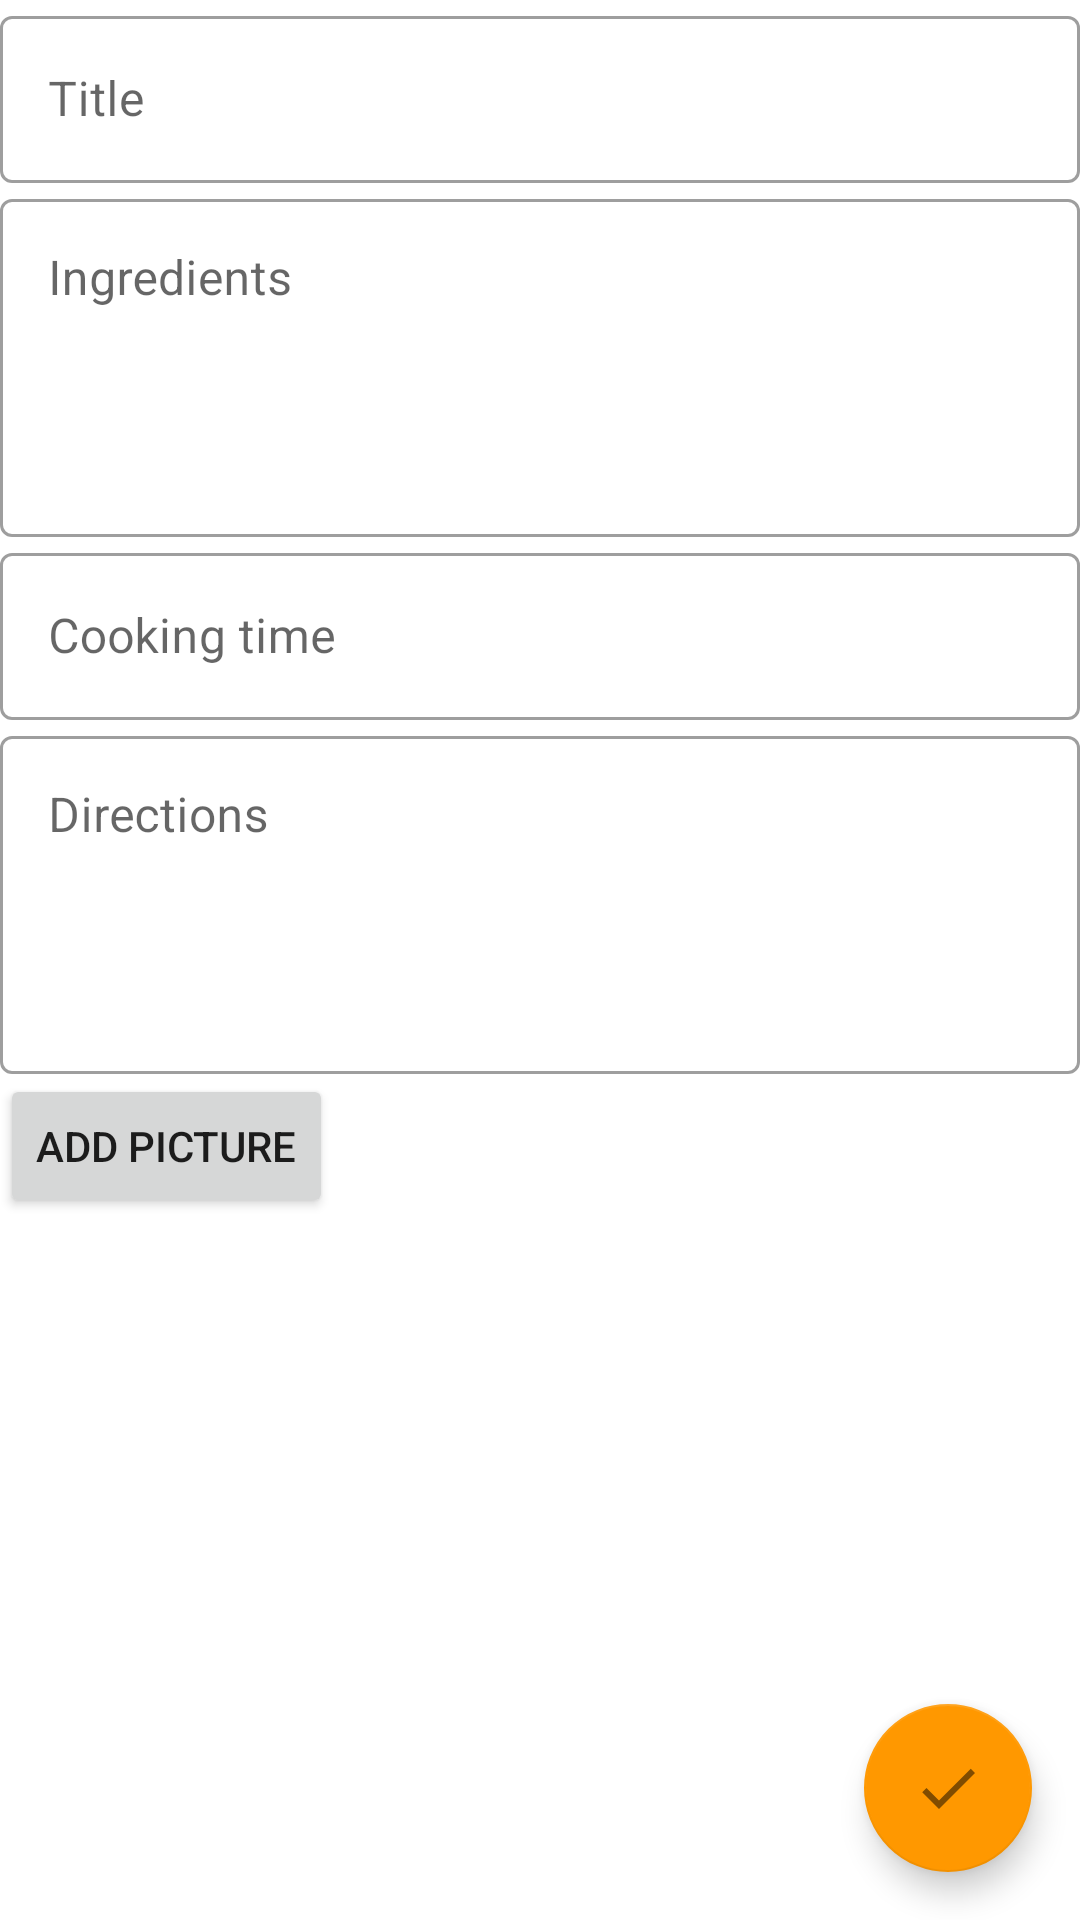

Screen size 1080px x 1920px. Icon name, then its box in pixels as (x1, y1, x2, y2):
check: (864, 1704, 1032, 1872)
